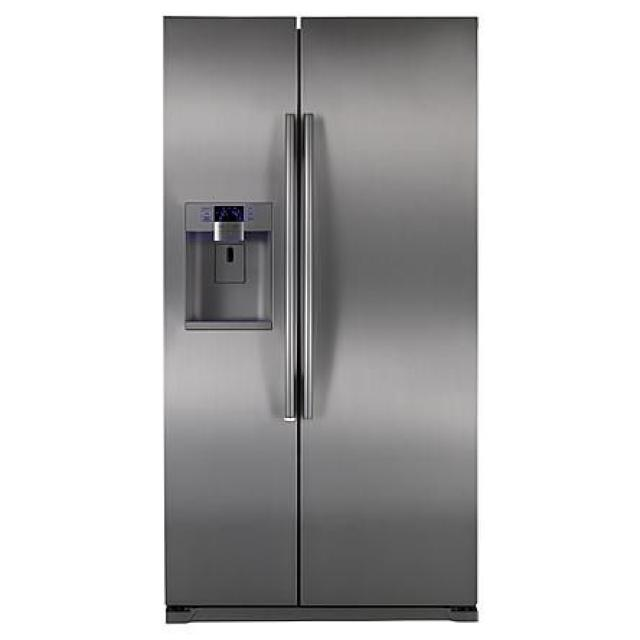obstacle: (162, 14, 478, 623)
